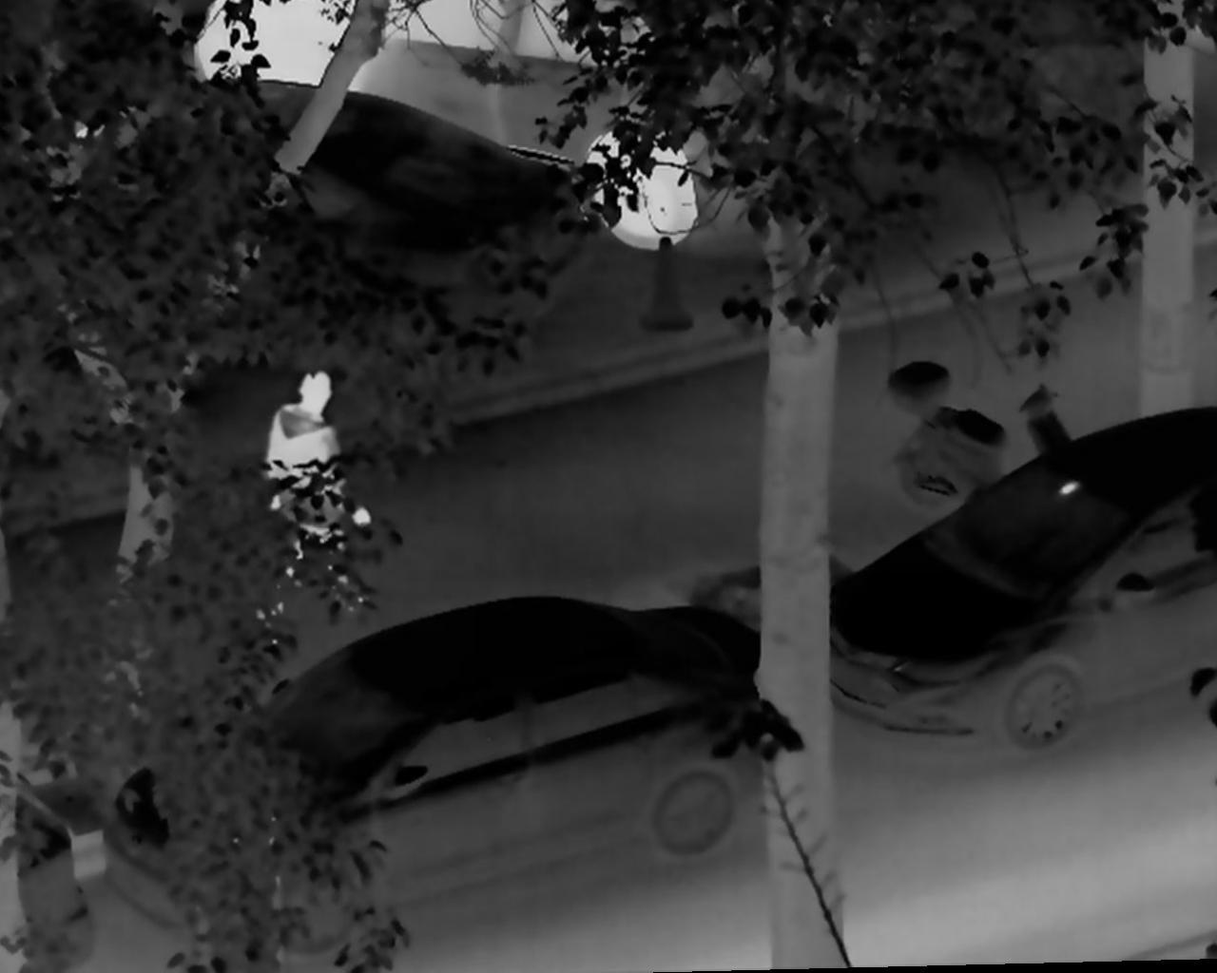person: (250, 369, 377, 640)
